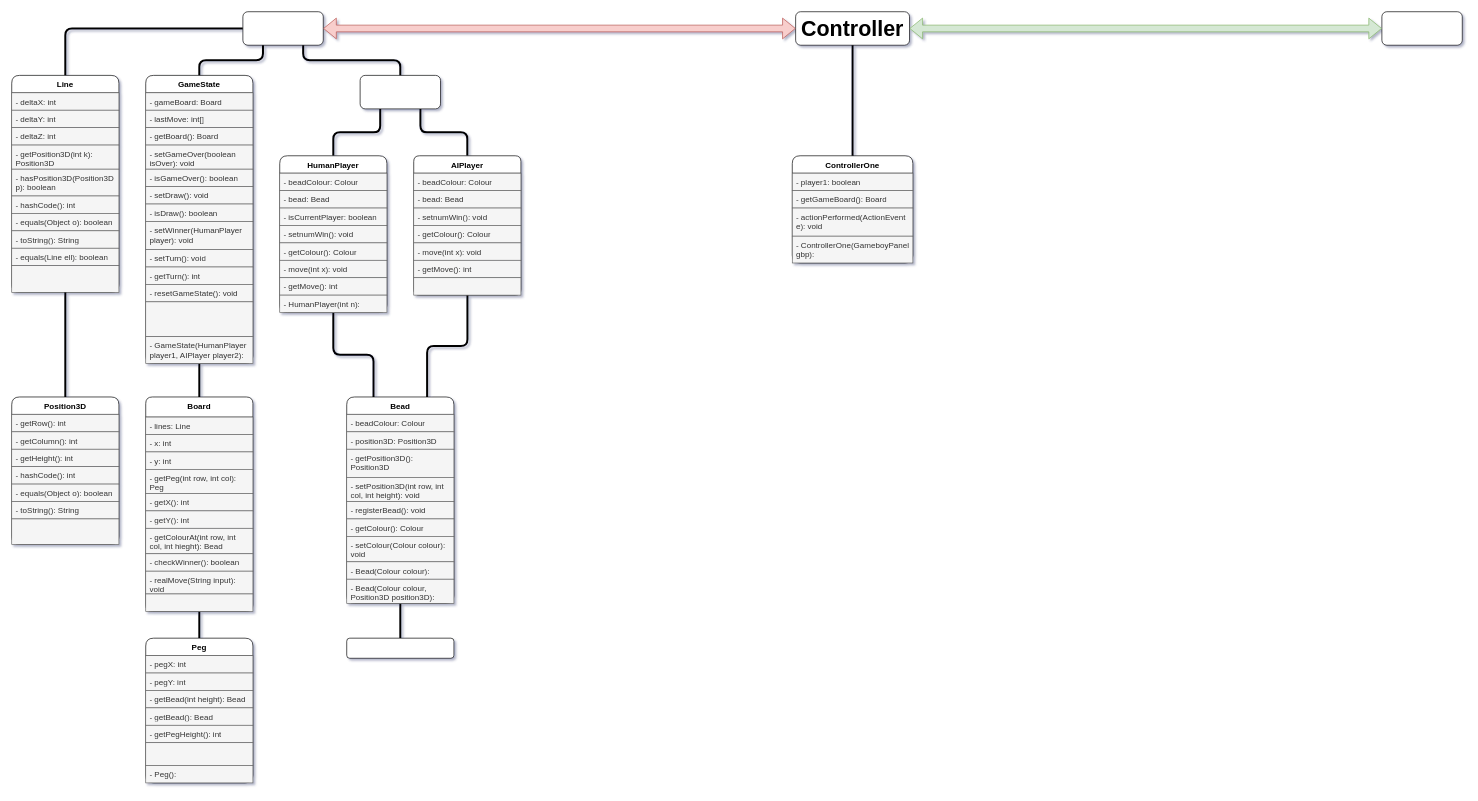
Image size: 1478x801. Some labels were removed from this diagram. Here are the shapes that lost their labels. From the top down, the box of each, then its label:
(242, 11, 323, 45): Model
(1381, 11, 1462, 45): View
(359, 75, 441, 109): Player
(11, 265, 119, 292): - Line(Position3D start, Position3D end):
(413, 277, 521, 295): - AIPlayer(int n):
(145, 301, 253, 337): - GameState(HumanPlayer player1, HumanPlayer player2):
(11, 518, 119, 544): - equals(Position3D p): boolean
(145, 593, 253, 611): - Board():
(346, 638, 454, 658): Colour
(145, 742, 253, 765): - setBead(Player player): void
